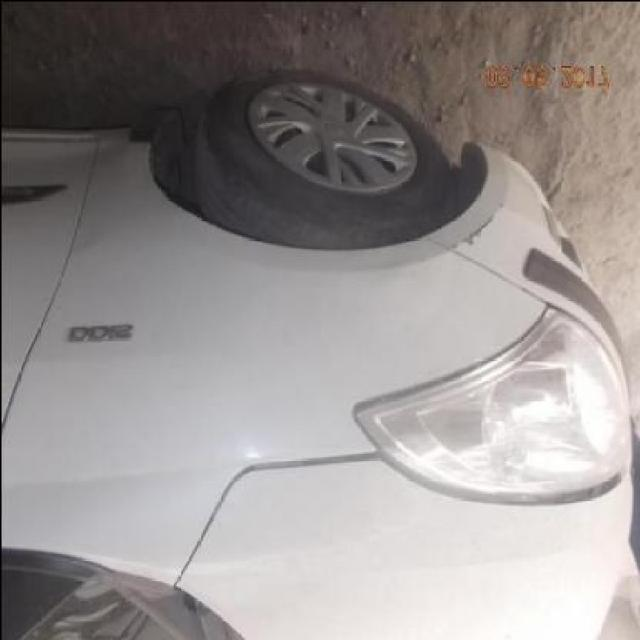damage: (447, 200, 503, 248)
